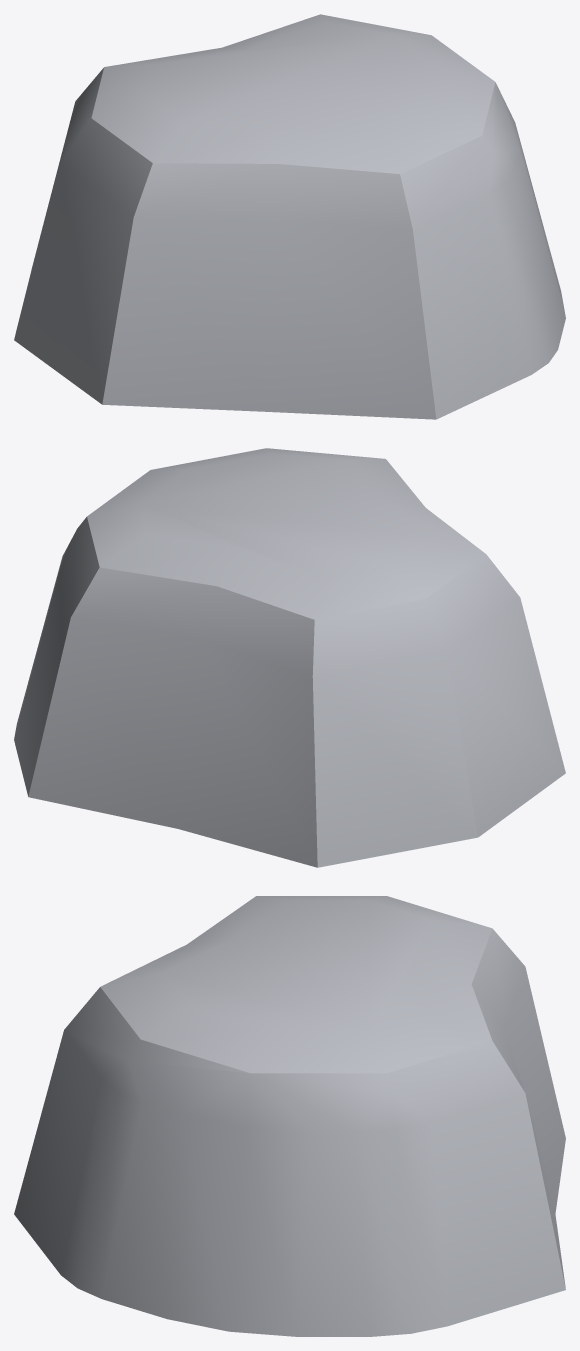
Rendered from RockBig_E.fbx.
The picture shows the model from 3 angles, top to bottom: view 1: azimuth 30°, elevation 25°; view 2: azimuth 150°, elevation 25°; view 3: azimuth 270°, elevation 25°; orthographic projection. The views are drawn at different scales.
Parts seen in each view (by area): view 1: RockBig_E; view 2: RockBig_E; view 3: RockBig_E.
Boxes of the visible parts, box(x1,y1,x2,y2) form: RockBig_E: box(14, 14, 565, 419); RockBig_E: box(14, 448, 565, 867); RockBig_E: box(14, 896, 565, 1336).
Size of the model in its own units: 190 by 89.77 by 181.
